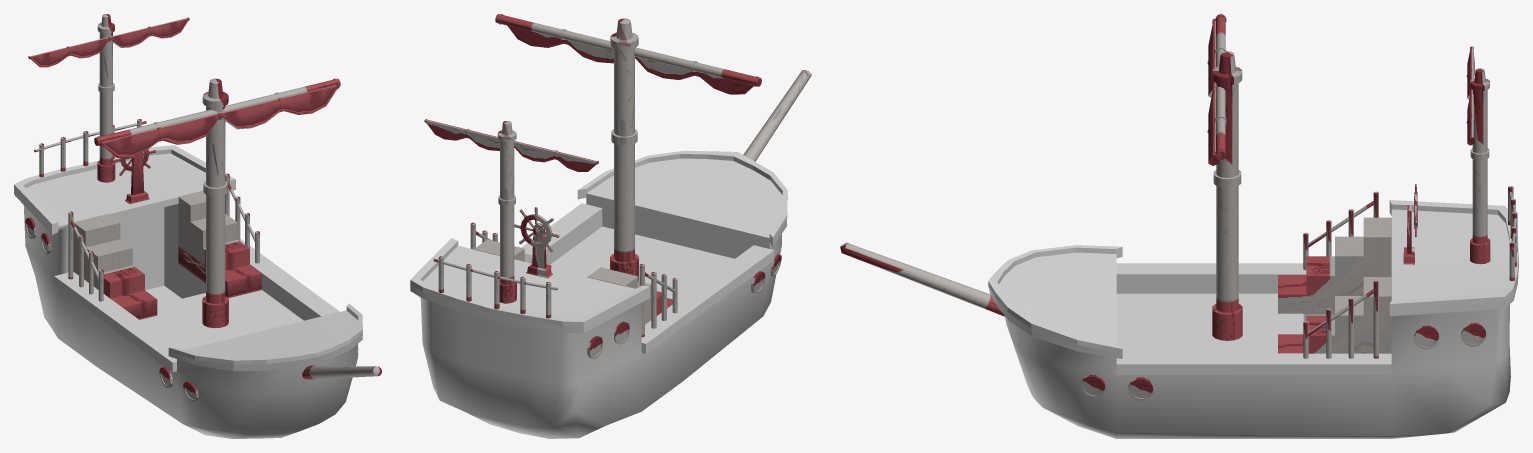
File: Pirate_ship.fbx
3 renders of one model, left to right at view 1: azimuth 30°, elevation 25°; view 2: azimuth 150°, elevation 25°; view 3: azimuth 270°, elevation 25°, orthographic. The views are drawn at different scales.
Visible parts, largest first — view 1: Boat_Body, Mast (×2), Flags (×2), Stairs2, Stairs, Mid_T, Point, pCube3, pCylinder2; view 2: Boat_Body, Mast (×2), Flags (×2), Mid_T, Point, Stairs2, pCube3, Stairs, pCylinder7; view 3: Boat_Body, Mast (×2), Stairs2, Stairs, Point, Flags (×2), Mid_T.
Part boxes in pixels (x1,y1,x2,y2): Boat_Body: [14, 145, 362, 438]; Mast (×2): [97, 14, 228, 328]; Flags (×2): [28, 17, 339, 158]; Stairs2: [73, 214, 157, 319]; Stairs: [178, 190, 261, 298]; Mid_T: [94, 78, 340, 145]; Point: [302, 365, 381, 379]; pCube3: [125, 154, 149, 203]; pCylinder2: [68, 211, 73, 279]; Boat_Body: [410, 150, 787, 438]; Mast (×2): [497, 18, 638, 303]; Flags (×2): [424, 25, 753, 171]; Mid_T: [495, 14, 761, 86]; Point: [743, 70, 811, 161]; Stairs2: [587, 267, 672, 324]; pCube3: [526, 223, 552, 278]; Stairs: [474, 239, 551, 267]; pCylinder7: [520, 214, 551, 247]; Boat_Body: [988, 200, 1518, 438]; Mast (×2): [1212, 51, 1490, 340]; Stairs2: [1278, 217, 1391, 314]; Stairs: [1278, 277, 1391, 353]; Point: [840, 242, 1004, 316]; Flags (×2): [1207, 19, 1474, 165]; Mid_T: [1215, 14, 1226, 159].
Size of the model in its own units: 47.39 by 59.12 by 99.03.
2 materials, 1 textured.
